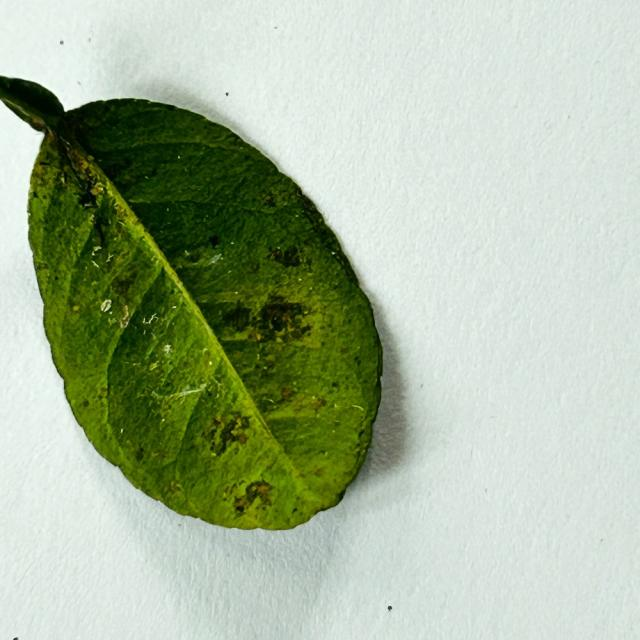Bacterial_Blight: (258, 298, 312, 344), (256, 297, 312, 341), (204, 411, 251, 456), (265, 386, 327, 415), (109, 273, 140, 322), (231, 479, 273, 514), (177, 240, 228, 267), (219, 301, 256, 333), (94, 157, 133, 182), (267, 244, 303, 268), (77, 188, 98, 210), (268, 311, 288, 332), (257, 357, 277, 373), (211, 437, 227, 455), (141, 165, 160, 180), (266, 246, 283, 261), (233, 496, 247, 513), (279, 386, 294, 401), (262, 194, 277, 207), (208, 234, 221, 249), (135, 447, 145, 462)
Lemon: (0, 76, 383, 534)
